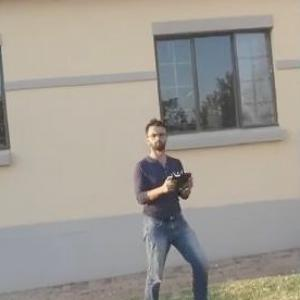follow: (130, 114, 232, 299)
